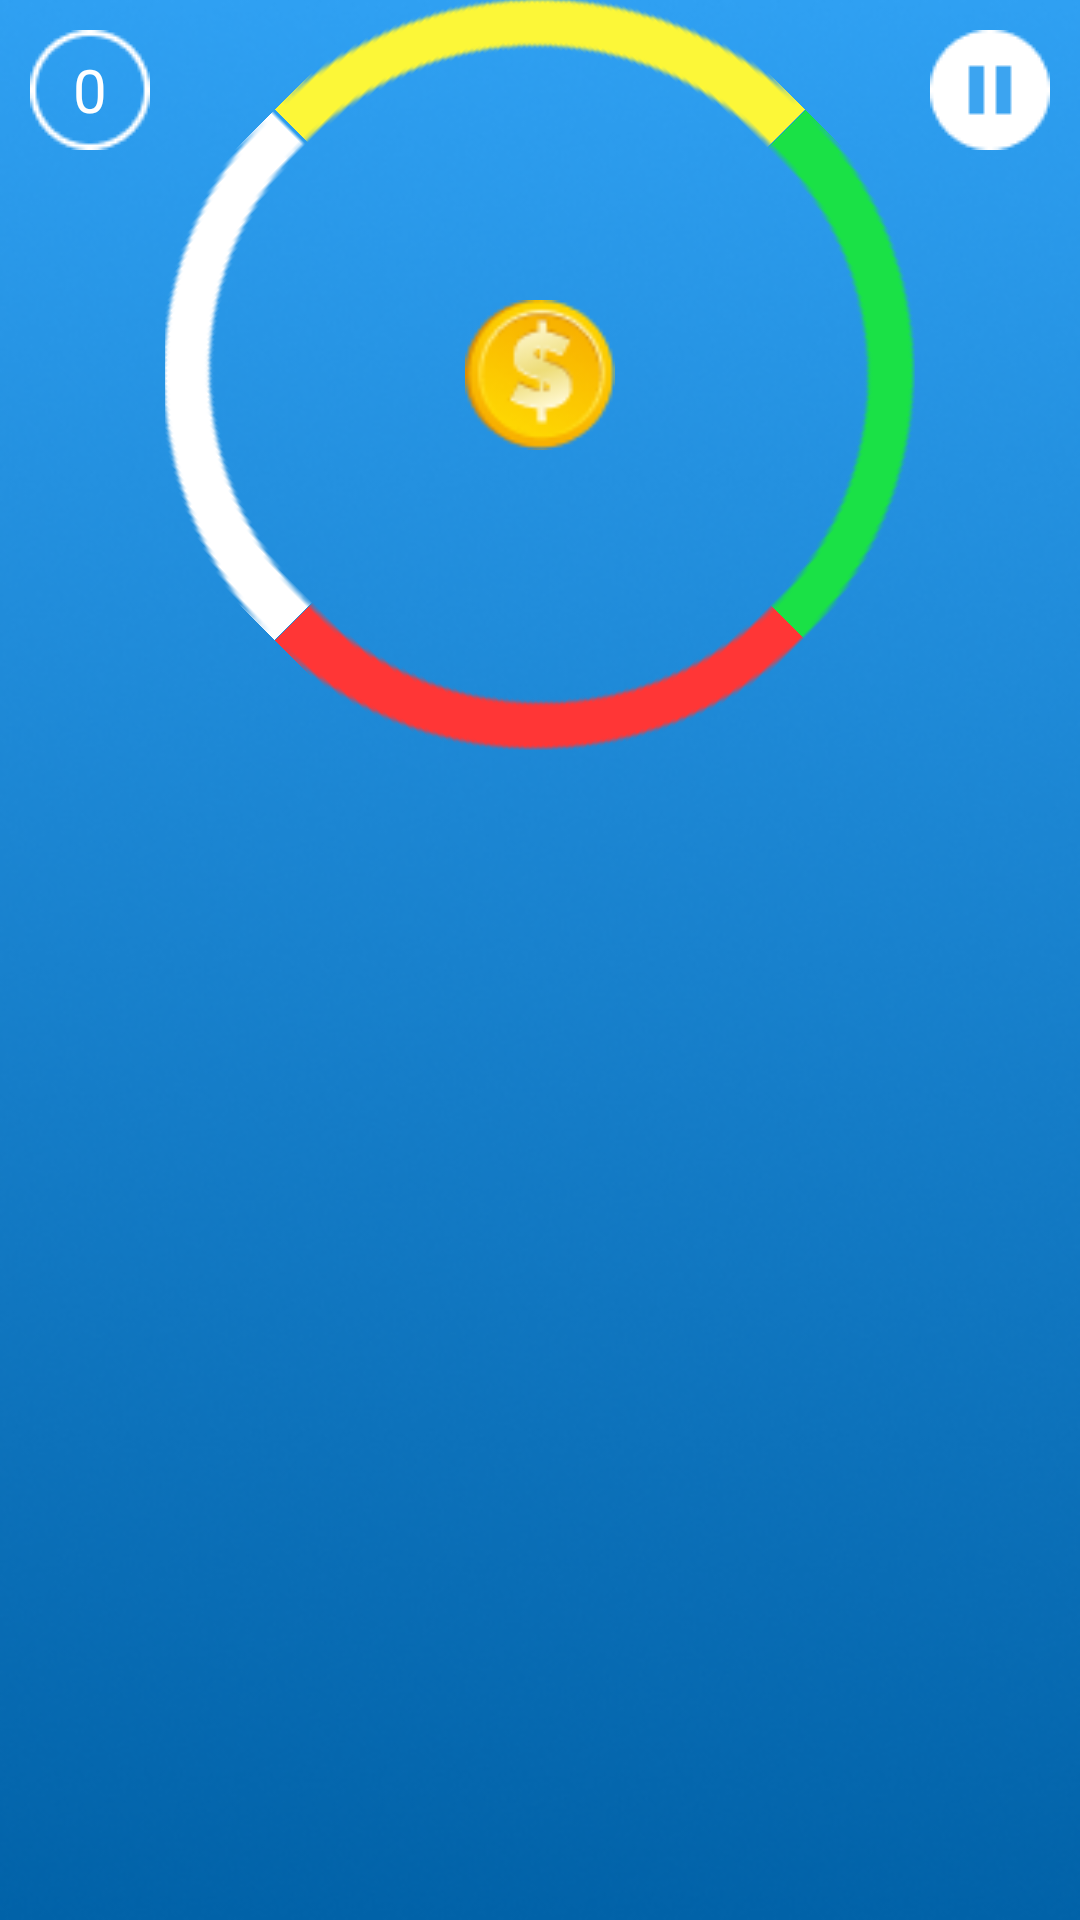

Icons on this 1080×1920 Android screen, each with its box as (x1, y1, x2, y2):
pause: (930, 30, 1050, 150)
scorecircle: (30, 30, 150, 150)
